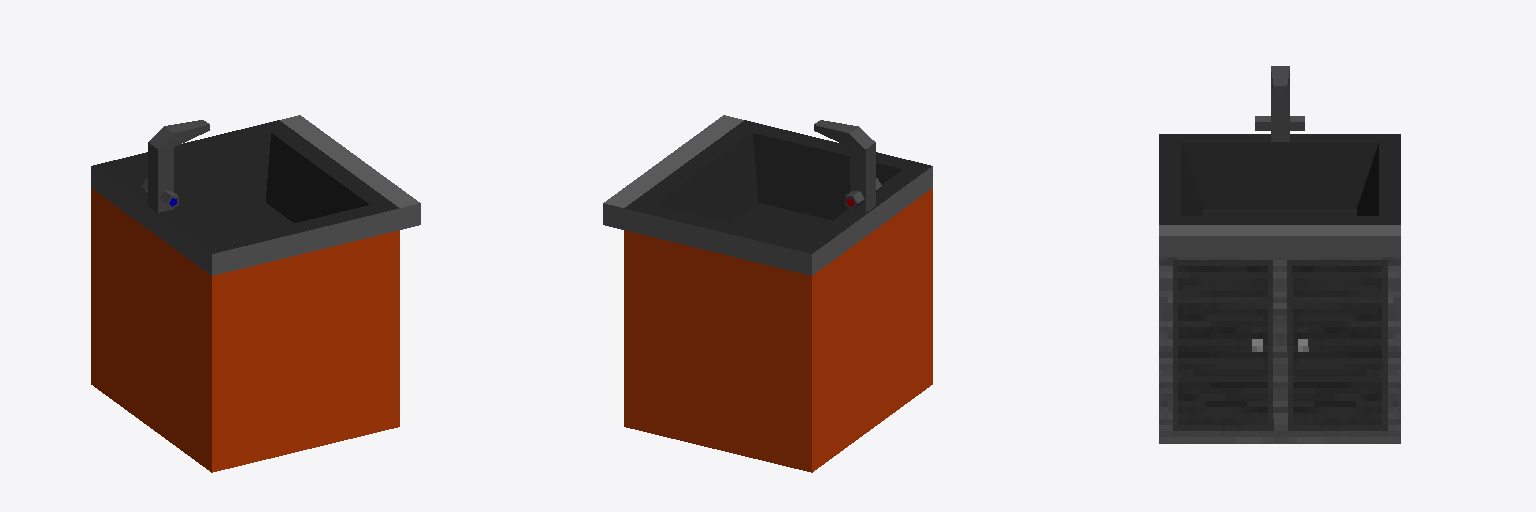
3 renders of one model, left to right at view 1: azimuth 30°, elevation 25°; view 2: azimuth 150°, elevation 25°; view 3: azimuth 270°, elevation 25°, orthographic.
Parts seen in each view (by area): view 1: kitchen_counter_sink; view 2: kitchen_counter_sink; view 3: kitchen_counter_sink.
Boxes of the visible parts, x1=… form: kitchen_counter_sink: x1=91, y1=115, x2=420, y2=472; kitchen_counter_sink: x1=603, y1=115, x2=932, y2=472; kitchen_counter_sink: x1=1159, y1=66, x2=1400, y2=443.
Size of the model in its own units: 2 by 2.69 by 2.
Materials: 7 (1 with a texture image).